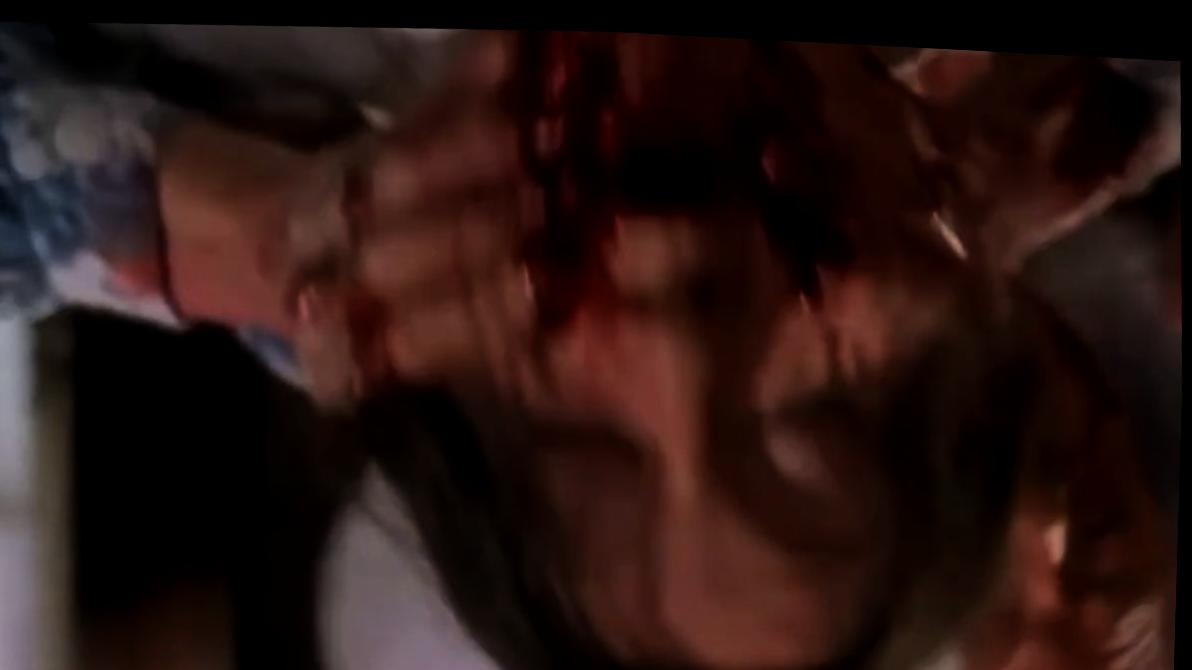Fire: (480, 23, 870, 389), (1024, 43, 1181, 187), (340, 154, 408, 388), (1041, 296, 1137, 432)
